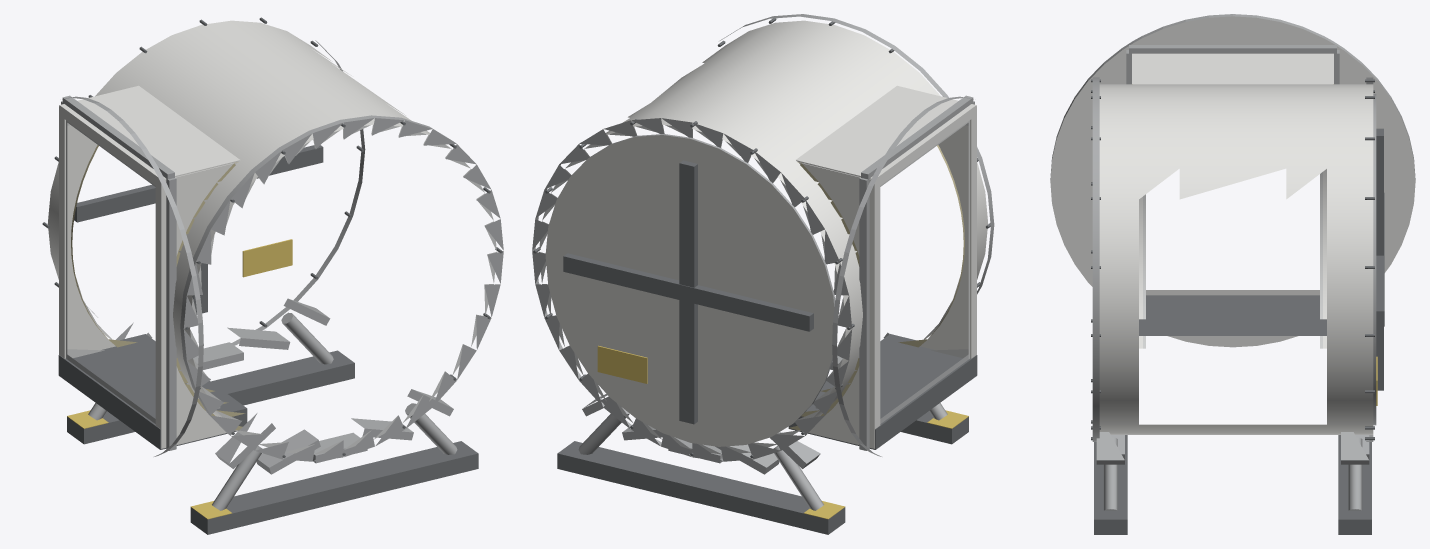
Rendered from habWindowJLb_steel.glb.
3 views of the same model, side by side, from view 1: azimuth 30°, elevation 25°; view 2: azimuth 150°, elevation 25°; view 3: azimuth 270°, elevation 25° (orthographic).
Visible parts, largest first — view 1: habWindowJLb_steel; view 2: habWindowJLb_steel; view 3: habWindowJLb_steel.
Boxes of the visible parts, x1,y1,x2,y2 form: habWindowJLb_steel: (42,17,503,534); habWindowJLb_steel: (532,14,994,534); habWindowJLb_steel: (1050,14,1415,534).
Bounding box in the file's own units: 2.65 × 2.95 × 2.6.
